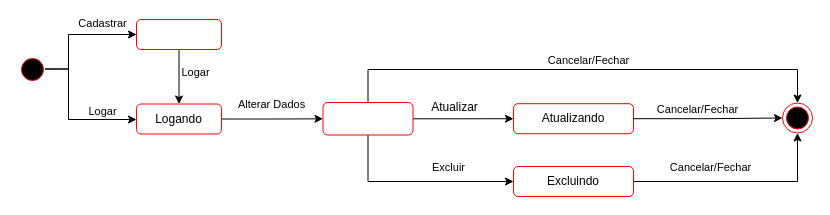
Image size: 830x215. Some labels were removed from this diagram. The centre of each missing label's shape, as x and y in pixels:
Autenticado: the point at 367,118
Cadastro: the point at 179,34
